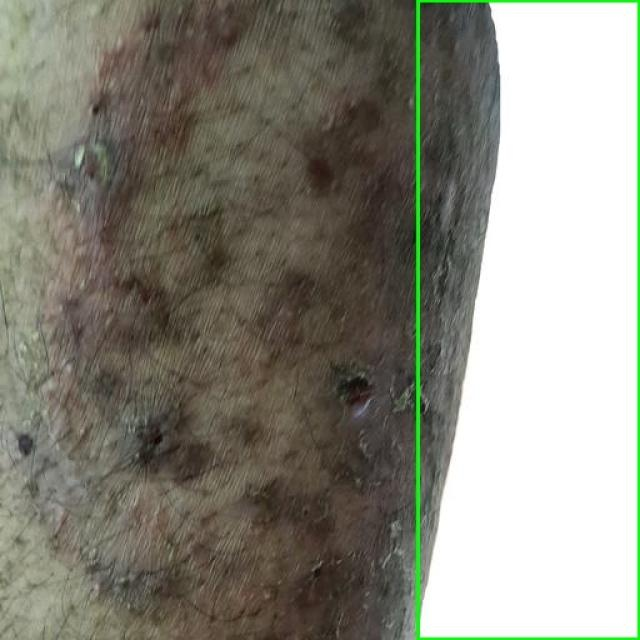Tinea Corporis: (418, 0, 639, 639)
